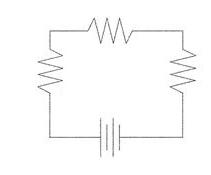resistor: (22, 37, 68, 105), (157, 35, 199, 107), (81, 8, 142, 49)
